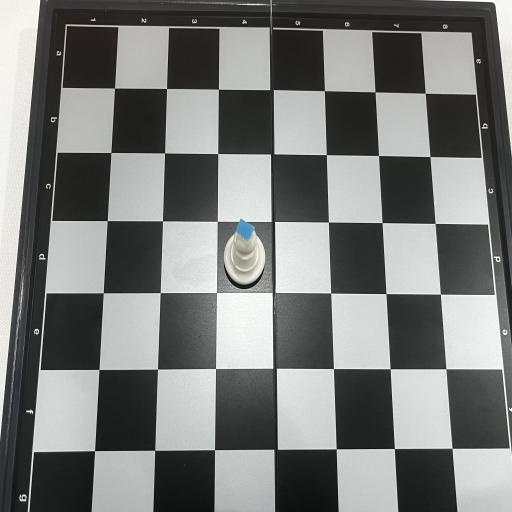White bishop: (224, 219, 265, 285)
